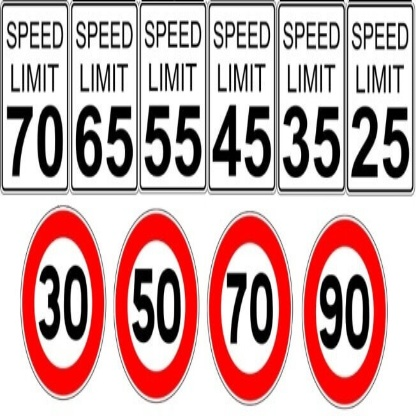limit1: (71, 2, 140, 192), (1, 1, 69, 193), (348, 3, 416, 195), (209, 1, 276, 192), (278, 2, 344, 194), (141, 2, 206, 191)
limit2: (17, 197, 108, 403), (298, 211, 390, 412), (204, 206, 292, 410), (112, 203, 198, 405)
